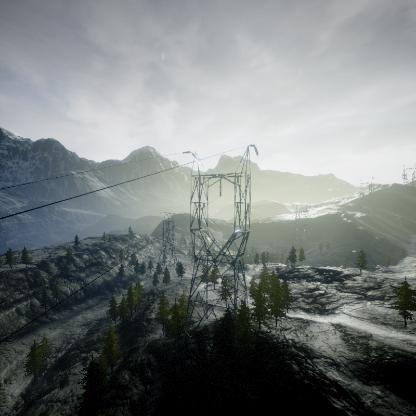tower: (176, 140, 260, 323)
